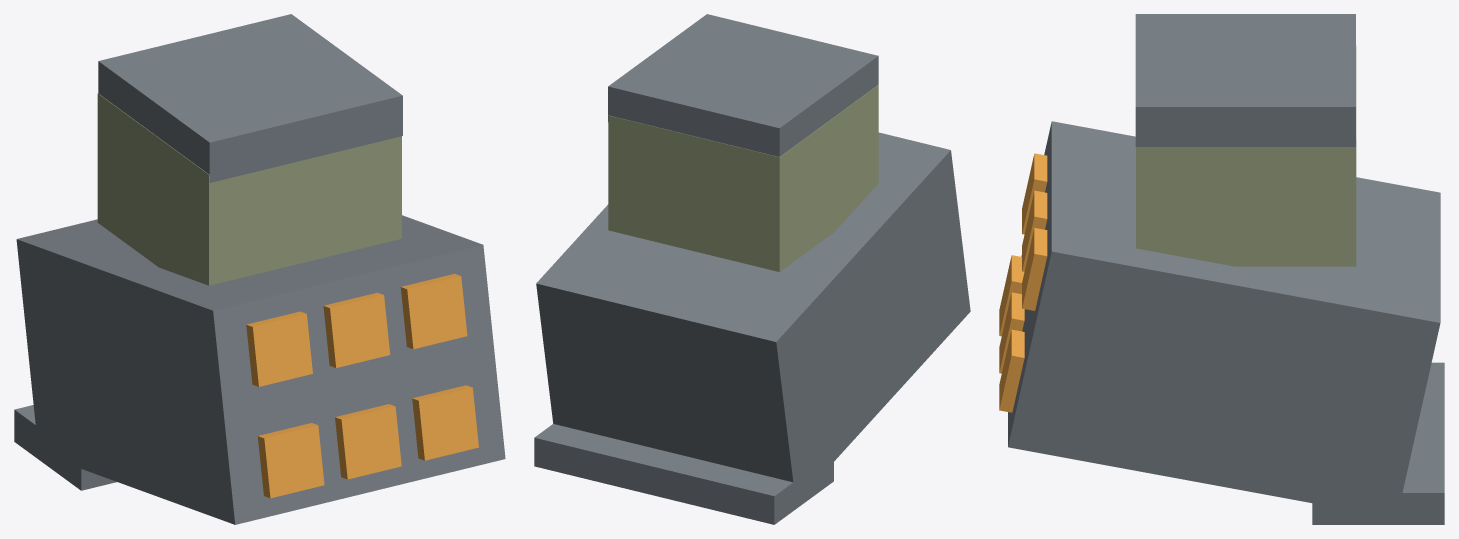
The model's file is mech-hangar-and-battle-frames-missile-pod-1df9ee27__26867.glb.
The picture shows the model from 3 angles, left to right: view 1: azimuth 30°, elevation 25°; view 2: azimuth 150°, elevation 25°; view 3: azimuth 270°, elevation 25°; orthographic projection. The views are drawn at different scales.
Parts seen in each view (by area): view 1: pod (×2), missile-pod; view 2: pod, missile-pod; view 3: pod (×2), missile-pod.
Part boxes in pixels (x1,y1,x2,y2): pod (×2): [14, 215, 505, 524]; missile-pod: [97, 14, 402, 285]; pod: [534, 132, 970, 524]; missile-pod: [608, 14, 878, 271]; pod (×2): [999, 121, 1444, 524]; missile-pod: [1135, 14, 1356, 266].
Bounding box in the file's own units: 0.7001 × 1 × 1.01.
